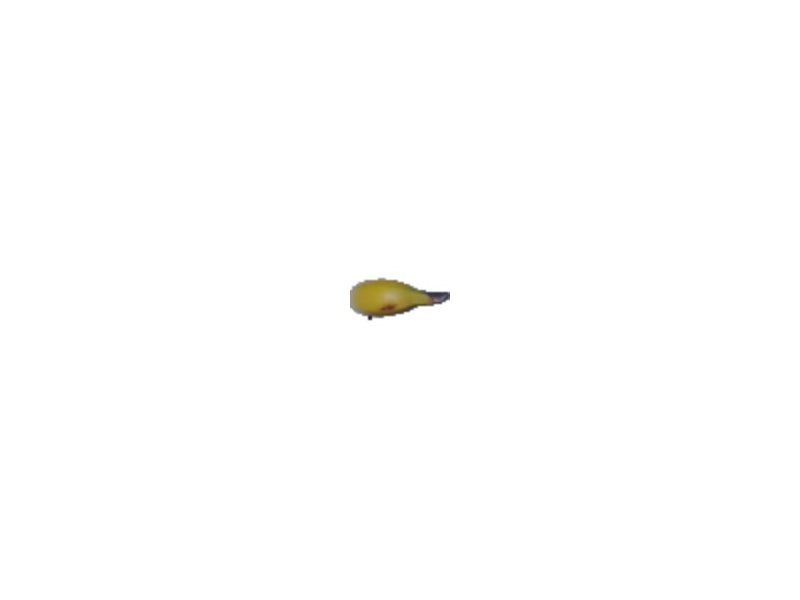banana: (347, 274, 453, 320)
